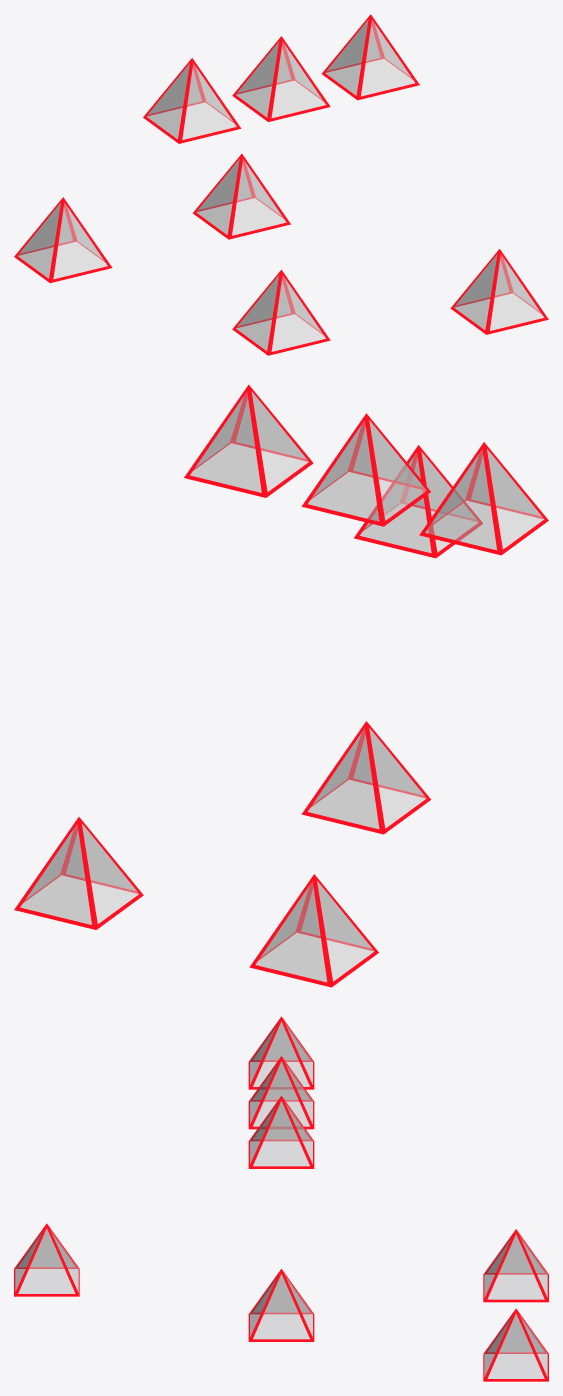
File: (3)M XSpike.fbx
The picture shows the model from 3 angles, top to bottom: view 1: azimuth 30°, elevation 25°; view 2: azimuth 150°, elevation 25°; view 3: azimuth 270°, elevation 25°; orthographic projection. The views are drawn at different scales.
Parts seen in each view (by area): view 1: Spike..002, Spike..001, Spike..003, Spike..007, Spike..004, Spike..005, Spike..006; view 2: Spike..004, Spike..002, Spike..005, Spike..007, Spike..003, Spike..006, Spike..001; view 3: Spike..007, Spike..002, Spike..005, Spike..001, Spike..006, Spike..004, Spike..003.
Part boxes in pixels (x1=…): Spike..002: x1=322, y1=14, x2=419, y2=100; Spike..001: x1=450, y1=249, x2=548, y2=334; Spike..003: x1=143, y1=58, x2=240, y2=143; Spike..007: x1=14, y1=197, x2=112, y2=283; Spike..004: x1=232, y1=36, x2=330, y2=121; Spike..005: x1=232, y1=270, x2=330, y2=355; Spike..006: x1=193, y1=154, x2=290, y2=239; Spike..004: x1=301, y1=413, x2=430, y2=526; Spike..002: x1=184, y1=384, x2=313, y2=497; Spike..005: x1=301, y1=721, x2=430, y2=834; Spike..007: x1=249, y1=874, x2=378, y2=987; Spike..003: x1=419, y1=442, x2=548, y2=555; Spike..006: x1=14, y1=817, x2=143, y2=929; Spike..001: x1=354, y1=445, x2=482, y2=558; Spike..007: x1=483, y1=1229, x2=548, y2=1302; Spike..002: x1=248, y1=1096, x2=314, y2=1168; Spike..005: x1=248, y1=1269, x2=314, y2=1341; Spike..001: x1=14, y1=1223, x2=79, y2=1296; Spike..006: x1=483, y1=1308, x2=548, y2=1381; Spike..004: x1=248, y1=1056, x2=314, y2=1129; Spike..003: x1=248, y1=1016, x2=314, y2=1089.
Bounding box in the file's own units: 540 × 640 × 1140.
